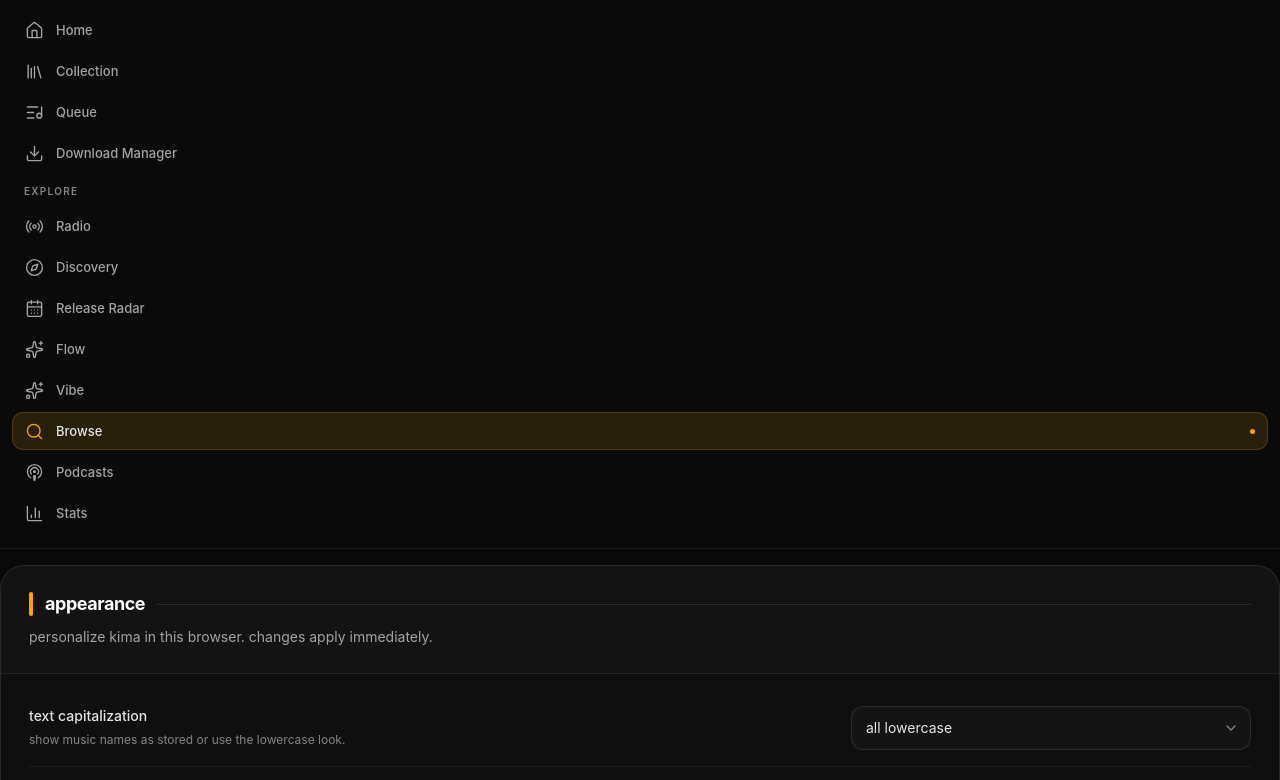
Test: v1.27 per-browser appearance controls › preserves stored artist casing and immediately hides only the Browse shortcut
Select "Original capitalization" in the dropdown labelled "Text capitalization": (1051, 728) left=851, top=706, right=1251, bottom=750
(page scrolled)
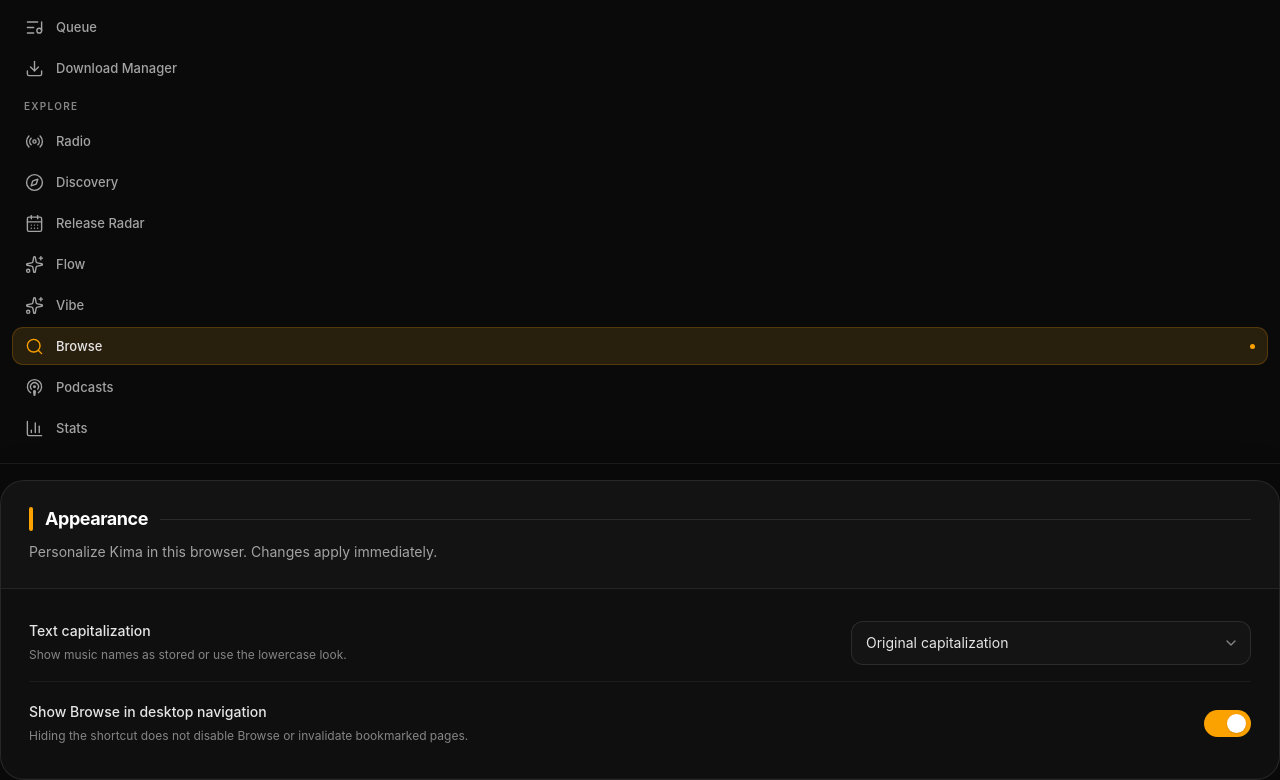
Click the checkbox with id "show-browse-nav": (148, 712) left=29, top=703, right=267, bottom=720
(page scrolled)
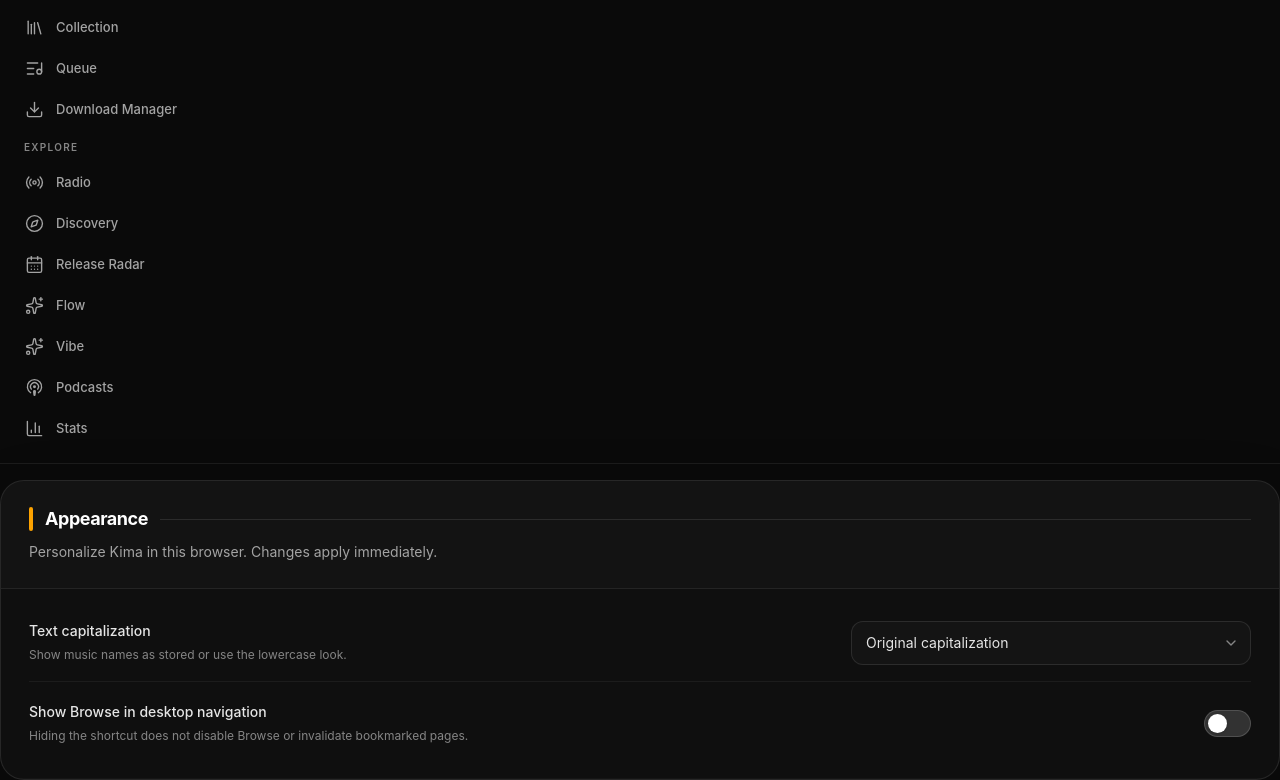
Check: the link to "/collection" is shown, box left=25, top=18, right=118, bottom=36
Check: the link to "/browse/playlists" is gone
Click the checkbox with id "show-browse-nav": (148, 712) left=29, top=703, right=267, bottom=720
(page scrolled)
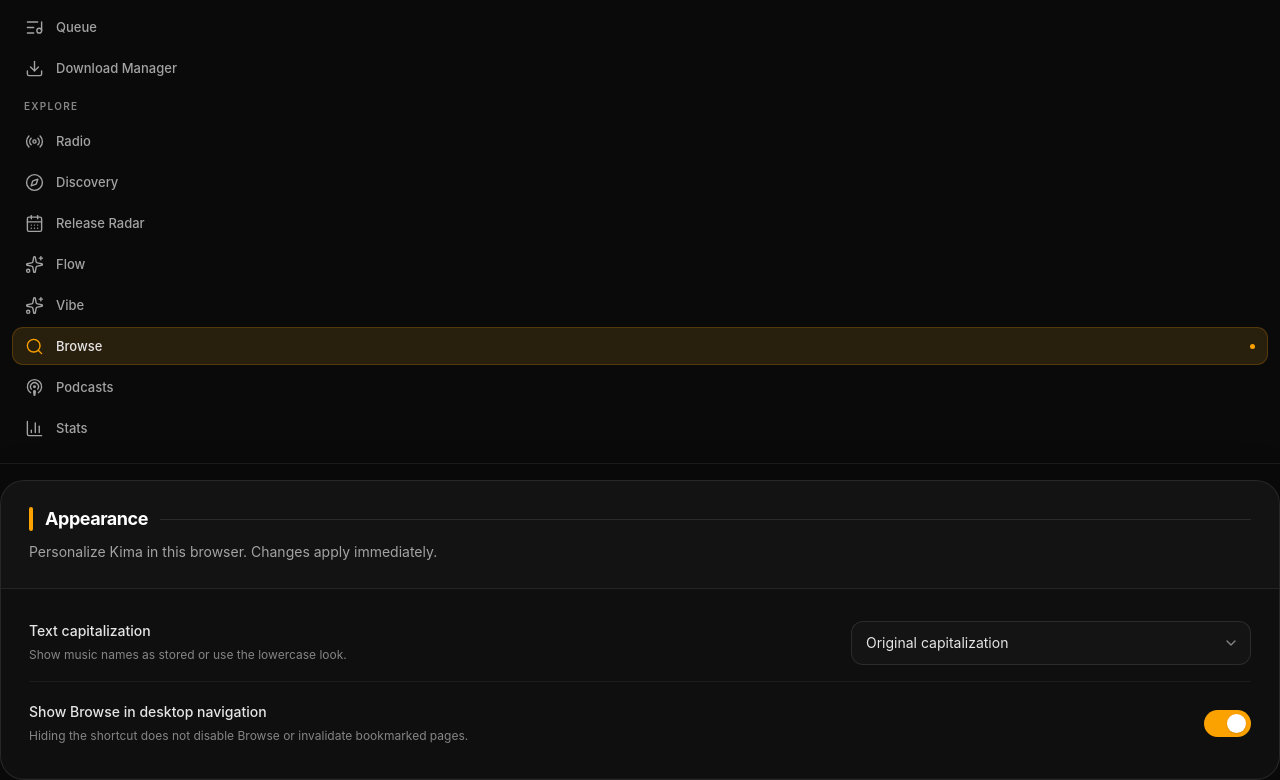
Check: the link to "/browse/playlists" is shown, box left=12, top=327, right=1268, bottom=365
